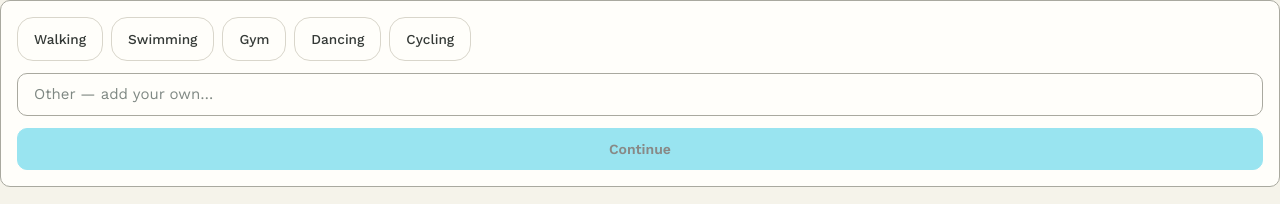
Scenario: MULTI_SELECT › keeps Continue disabled until something is chosen
Expected: the button "Continue" is disabled, x1=17 y1=128 x2=1263 y2=170
Click the button "Gym": (254, 39) x1=222 y1=17 x2=286 y2=61
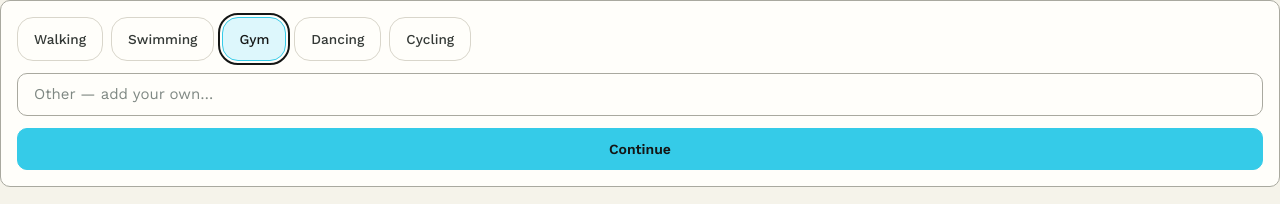
Result: the button "Continue" is enabled at x1=17 y1=128 x2=1263 y2=170
